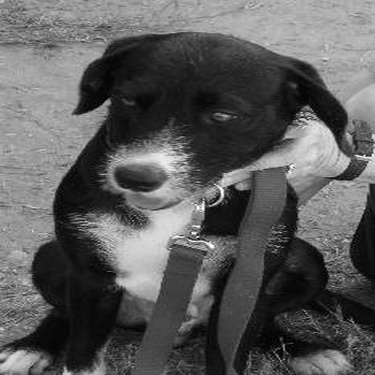dog: (2, 26, 370, 373)
